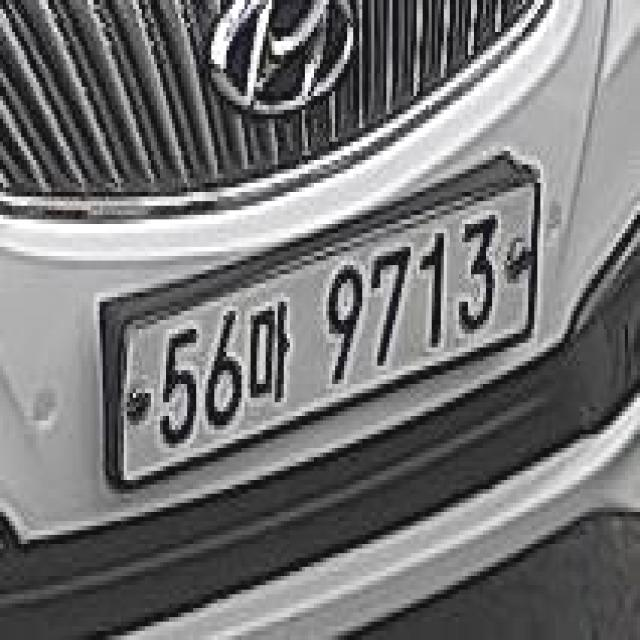illegal_plate: (101, 167, 545, 503)
